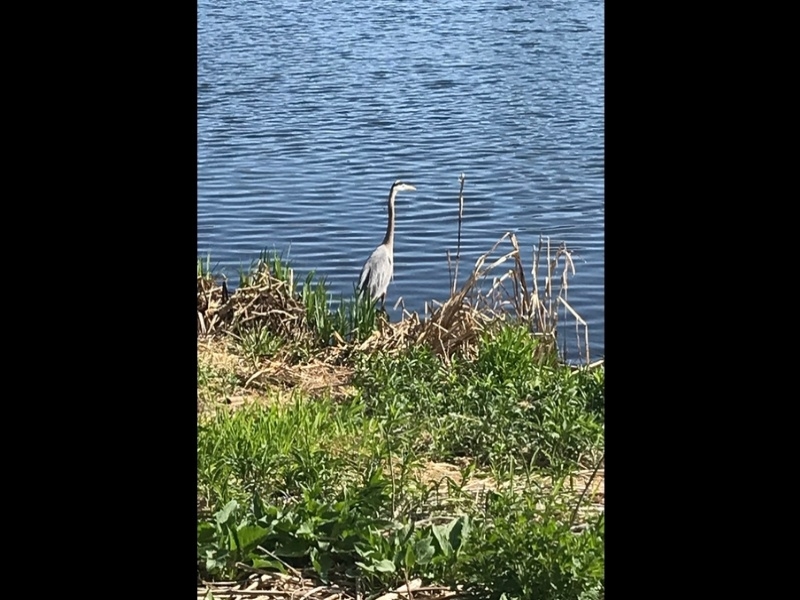heron: (357, 178, 417, 319)
